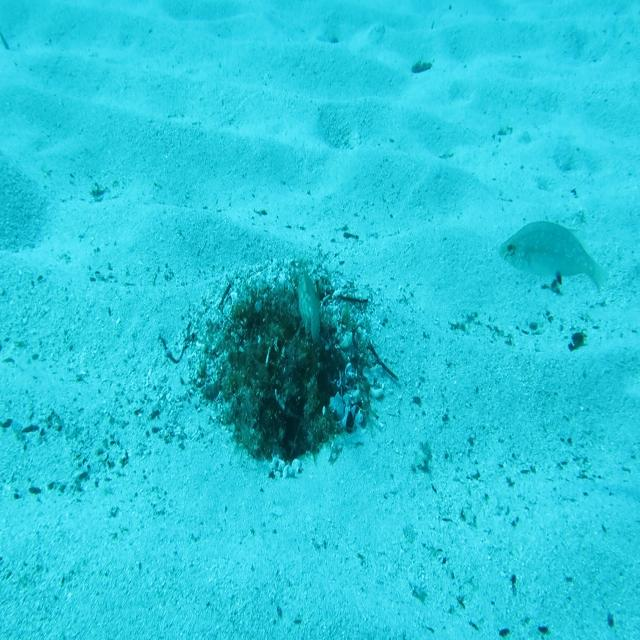NIP_CORE: (296, 261, 322, 349)
core_nest: (257, 308, 320, 353)
female: (495, 219, 610, 296)
nest: (173, 243, 393, 489)
vegetation: (409, 57, 433, 73)
